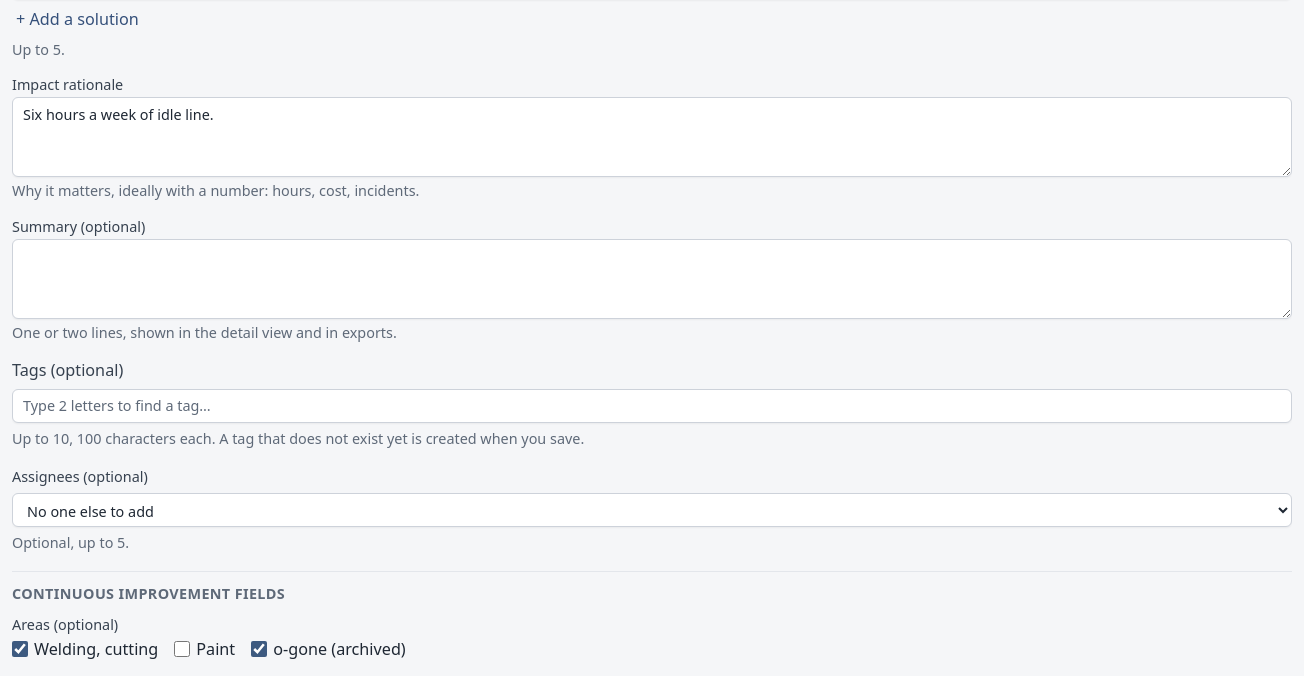
Scenario: IdeaForm choice fields › shows an archived option only while it is selected
The width and height of the screenshot is (1304, 676).
(page scrolled)
Click the checkbox labelled "o-gone (archived)" at (259, 649), box [251, 641, 267, 657]
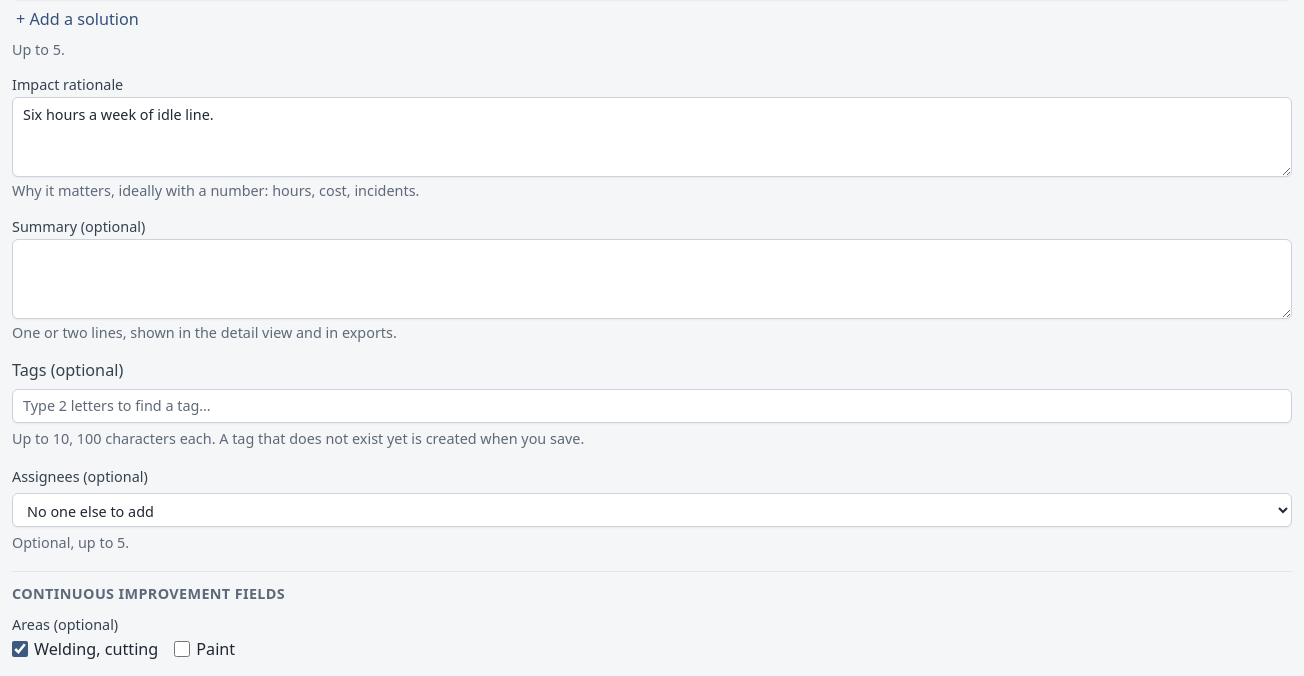
Expected: the checkbox labelled "Paint" is shown, [174, 641, 190, 657]
Expected: the label labelled "o-gone (archived)" is gone
